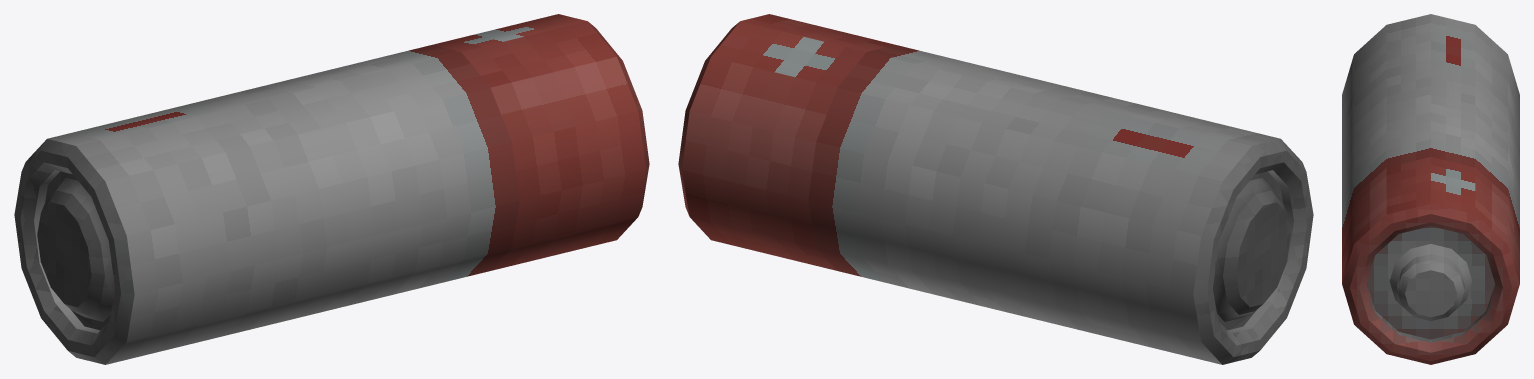
The model's file is battery_3.obj.
3 views of the same model, side by side, from view 1: azimuth 30°, elevation 25°; view 2: azimuth 150°, elevation 25°; view 3: azimuth 270°, elevation 25° (orthographic). The views are drawn at different scales.
Visible parts, largest first — view 1: battery_3; view 2: battery_3; view 3: battery_3.
Boxes of the visible parts, x1=… form: battery_3: x1=14, y1=14, x2=649, y2=364; battery_3: x1=678, y1=14, x2=1313, y2=364; battery_3: x1=1342, y1=14, x2=1519, y2=364.
Bounding box in the file's own units: 0.0976 × 0.036 × 0.036.
